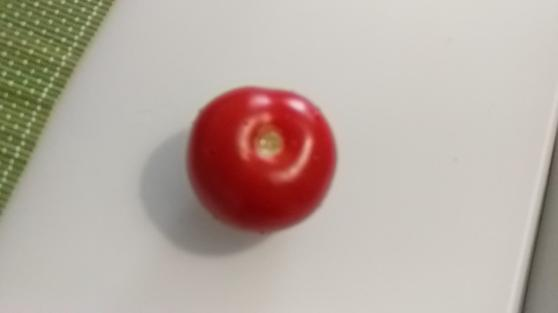tomato: (185, 84, 343, 233)
